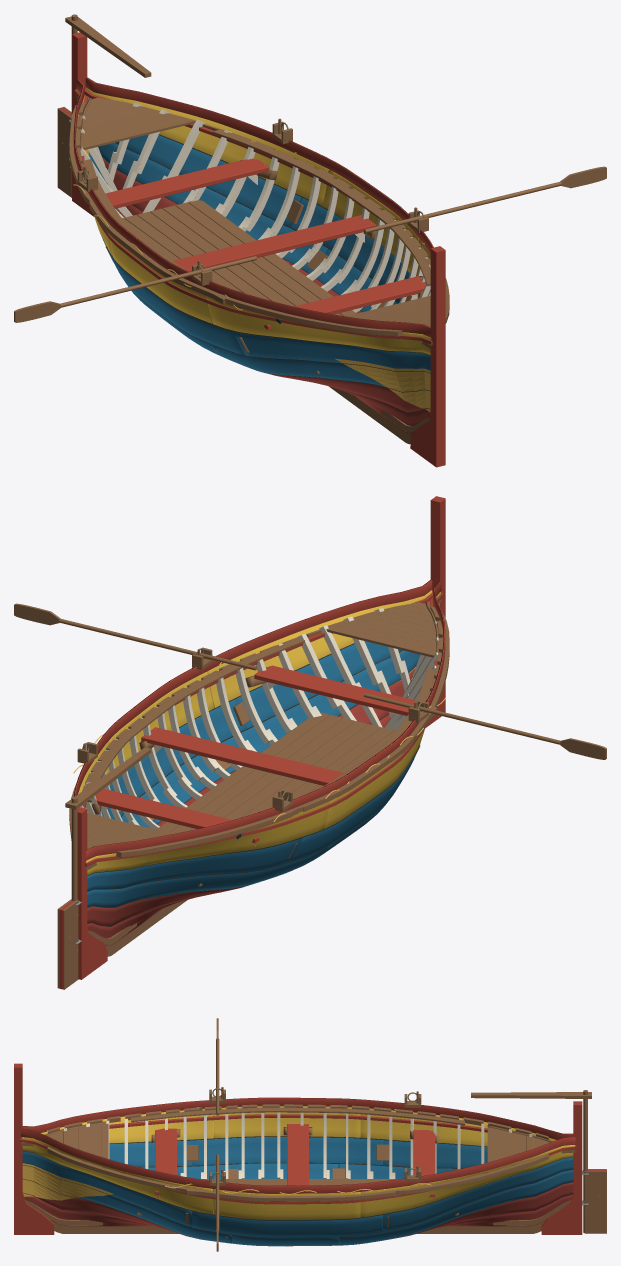
The model's file is firilla-mobile.glb.
The picture shows the model from 3 angles, top to bottom: view 1: azimuth 30°, elevation 25°; view 2: azimuth 150°, elevation 25°; view 3: azimuth 270°, elevation 25°; orthographic projection. The views are drawn at different scales.
Parts seen in each view (by area): view 1: bow-post-5, washboards-103, washboards-40, planking-32, sheer-strake-38, sheer-strake-99, thwarts-498, planking-93, planking-79, thwarts-485, catwalks-132, planking-18 (+30 smaller); view 2: planking-30, washboards-103, washboards-40, sheer-strake-36, thwarts-498, planking-16, sheer-strake-101, thwarts-511, planking-81, planking-95, stern-post-6, thwarts-485 (+27 smaller); view 3: washboards-103, washboards-40, planking-31, planking-94, sheer-strake-100, planking-93, sheer-strake-37, sheer-strake-99, planking-79, sheer-strake-101, planking-95, bow-post-5 (+34 smaller).
Boxes of the visible parts, bbox=[...] form: bow-post-5: bbox=[410, 246, 445, 467]; washboards-103: bbox=[85, 77, 433, 253]; washboards-40: bbox=[73, 79, 431, 337]; planking-32: bbox=[234, 331, 430, 370]; sheer-strake-38: bbox=[207, 296, 431, 354]; sheer-strake-99: bbox=[85, 87, 329, 206]; thwarts-498: bbox=[173, 215, 376, 271]; planking-93: bbox=[115, 134, 301, 226]; planking-79: bbox=[98, 142, 327, 272]; thwarts-485: bbox=[105, 158, 269, 208]; catwalks-132: bbox=[212, 129, 430, 286]; planking-18: bbox=[209, 344, 385, 386]; planking-30: bbox=[87, 838, 302, 891]; washboards-103: bbox=[74, 580, 432, 796]; washboards-40: bbox=[86, 581, 445, 860]; sheer-strake-36: bbox=[86, 801, 329, 875]; thwarts-498: bbox=[141, 727, 343, 785]; planking-16: bbox=[87, 847, 328, 907]; sheer-strake-101: bbox=[207, 590, 432, 707]; thwarts-511: bbox=[254, 665, 415, 715]; planking-81: bbox=[221, 650, 419, 773]; planking-95: bbox=[235, 641, 402, 728]; stern-post-6: bbox=[77, 807, 107, 979]; thwarts-485: bbox=[95, 789, 259, 843]; washboards-103: bbox=[21, 1129, 575, 1193]; washboards-40: bbox=[22, 1097, 573, 1139]; planking-31: bbox=[192, 1137, 382, 1165]; planking-94: bbox=[192, 1211, 382, 1237]; sheer-strake-100: bbox=[213, 1189, 360, 1219]; planking-93: bbox=[382, 1157, 573, 1231]; sheer-strake-37: bbox=[213, 1106, 360, 1138]; sheer-strake-99: bbox=[360, 1145, 575, 1217]; planking-79: bbox=[338, 1170, 573, 1245]; sheer-strake-101: bbox=[21, 1137, 212, 1214]; planking-95: bbox=[22, 1151, 192, 1227]; bow-post-5: bbox=[14, 1063, 54, 1234].
Size of the model in its own units: 4.5 by 1.56 by 5.01.
